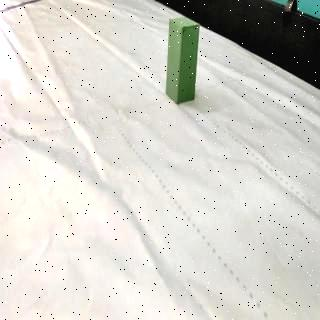greenbox: (164, 15, 200, 106)
